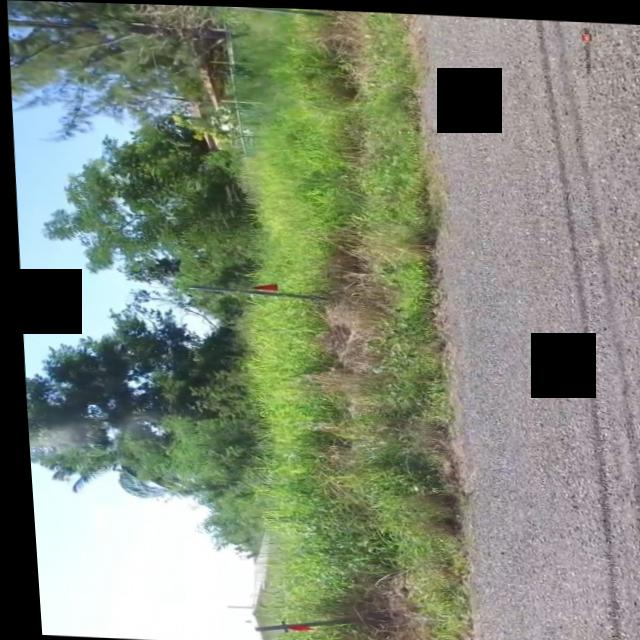Pole: (170, 275, 330, 306), (234, 602, 363, 640)
